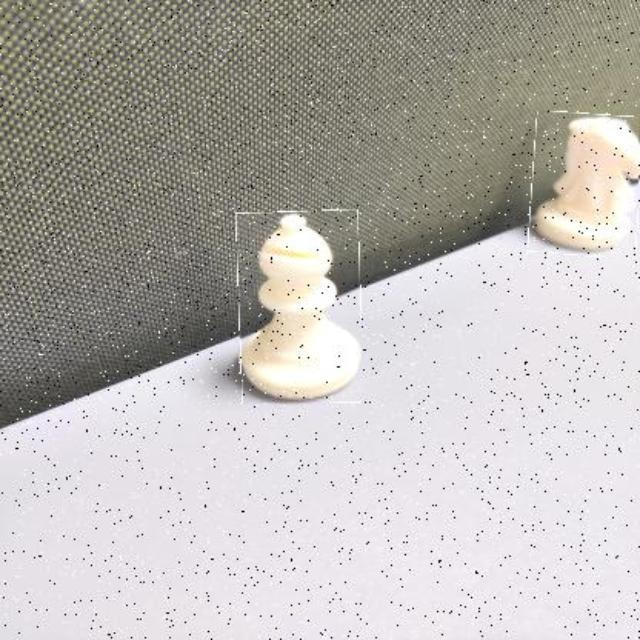white-bishop: (237, 210, 361, 403)
white-knight: (529, 111, 638, 258)
